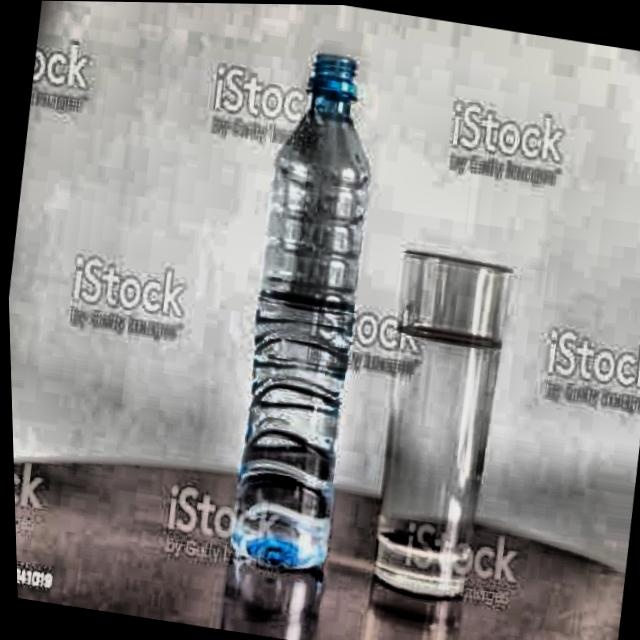Bottles: (189, 31, 413, 591)
